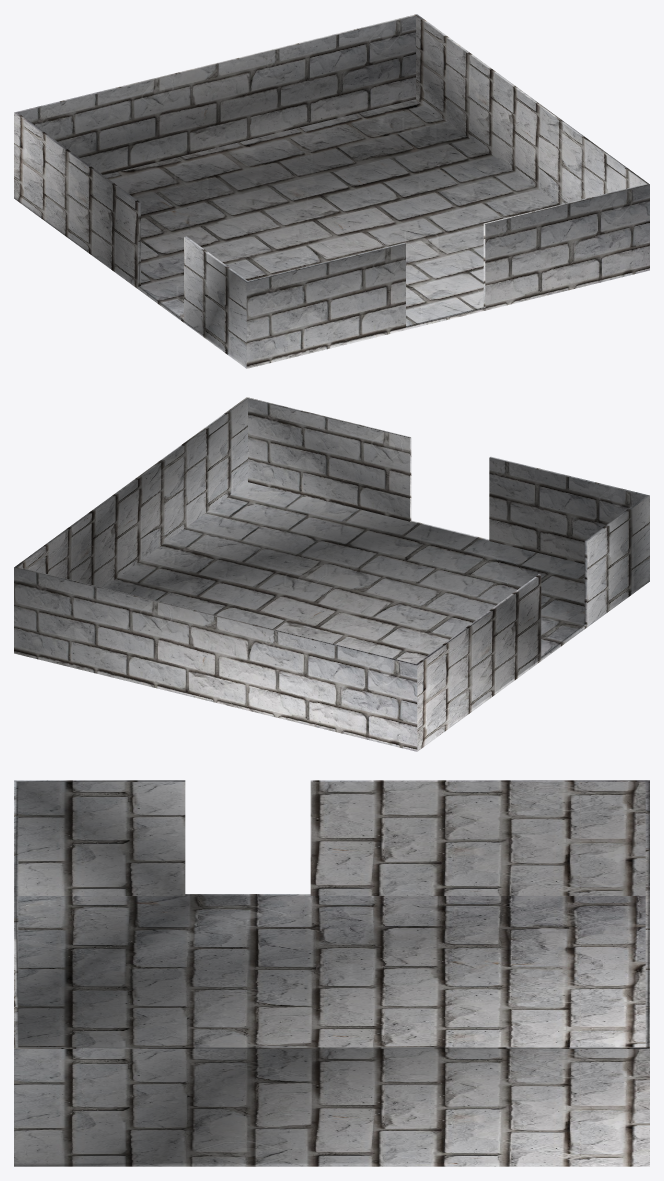
File: Nodo1.obj
3 renders of one model, top to bottom at view 1: azimuth 30°, elevation 25°; view 2: azimuth 150°, elevation 25°; view 3: azimuth 270°, elevation 25°, orthographic. The views are drawn at different scales.
Visible parts, largest first — view 1: Box010; view 2: Box010; view 3: Box010.
Boxes of the visible parts, <box> form: Box010: <box>14,14,649,368</box>; Box010: <box>14,397,649,751</box>; Box010: <box>14,780,649,1166</box>.
Bounding box in the file's own units: 598 × 122 × 598.
Materials: 1 (1 with a texture image).
